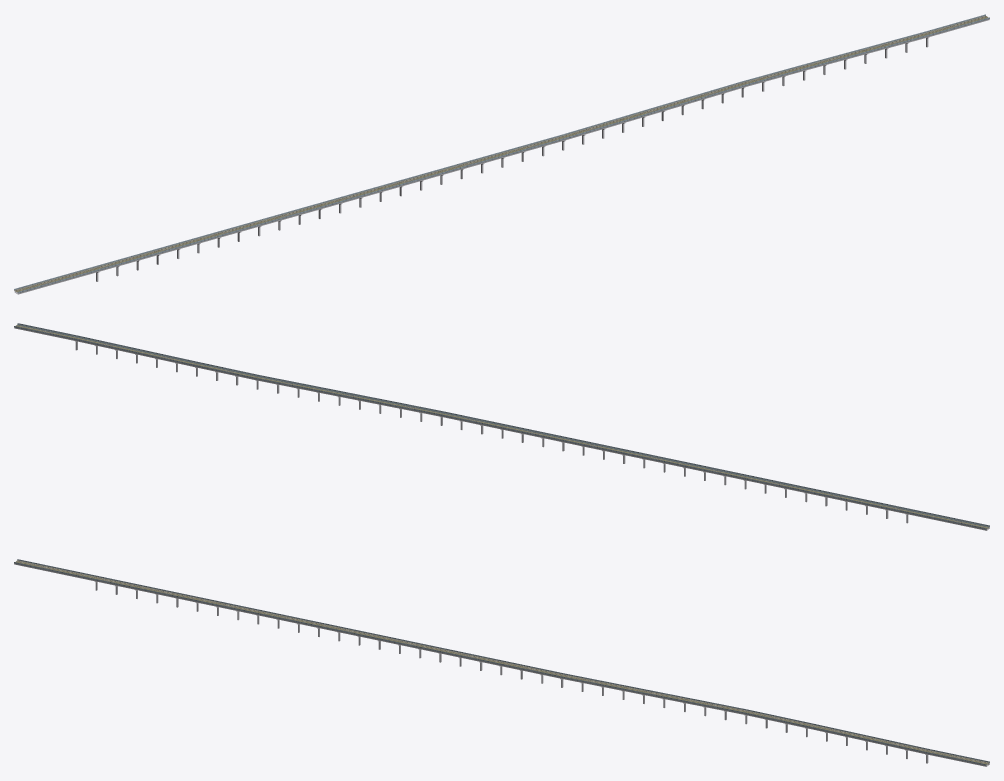
The picture shows the model from 3 angles, top to bottom: view 1: azimuth 30°, elevation 25°; view 2: azimuth 150°, elevation 25°; view 3: azimuth 330°, elevation 25°; orthographic projection. The views are drawn at different scales.
Parts seen in each view (by area): view 1: HN1262____Van_Quan_Metro_Station__MRT_1____1; view 2: HN1262____Van_Quan_Metro_Station__MRT_1____1; view 3: HN1262____Van_Quan_Metro_Station__MRT_1____1.
Part boxes in pixels (x1,y1,x2,y2): HN1262____Van_Quan_Metro_Station__MRT_1____1: [14, 14, 989, 294]; HN1262____Van_Quan_Metro_Station__MRT_1____1: [14, 323, 989, 530]; HN1262____Van_Quan_Metro_Station__MRT_1____1: [14, 559, 989, 766].
Bounding box in the file's own units: 1154 × 15.17 × 84.12.
1 material, 1 textured.
